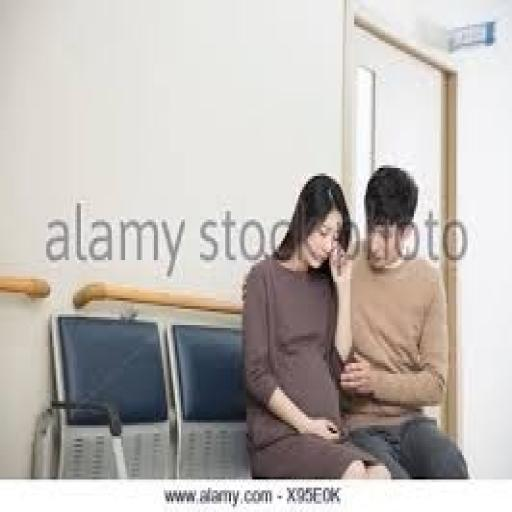sitting: (238, 170, 392, 480), (333, 162, 470, 480)
